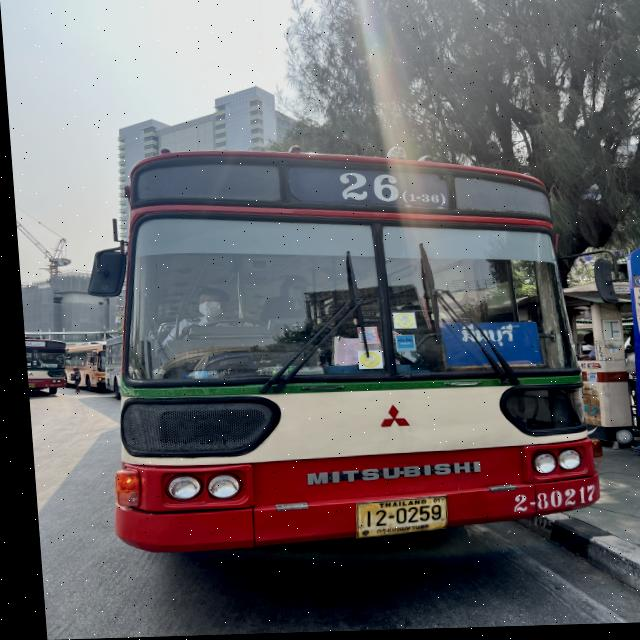BMTA-bus: (89, 151, 595, 557)
Bus Line Number: (334, 165, 452, 216)
Bus Side Number: (496, 487, 592, 519)
Destination Sign: (434, 321, 538, 370)
